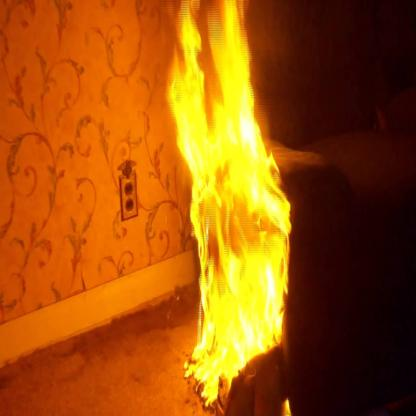fire: (167, 1, 293, 400)
